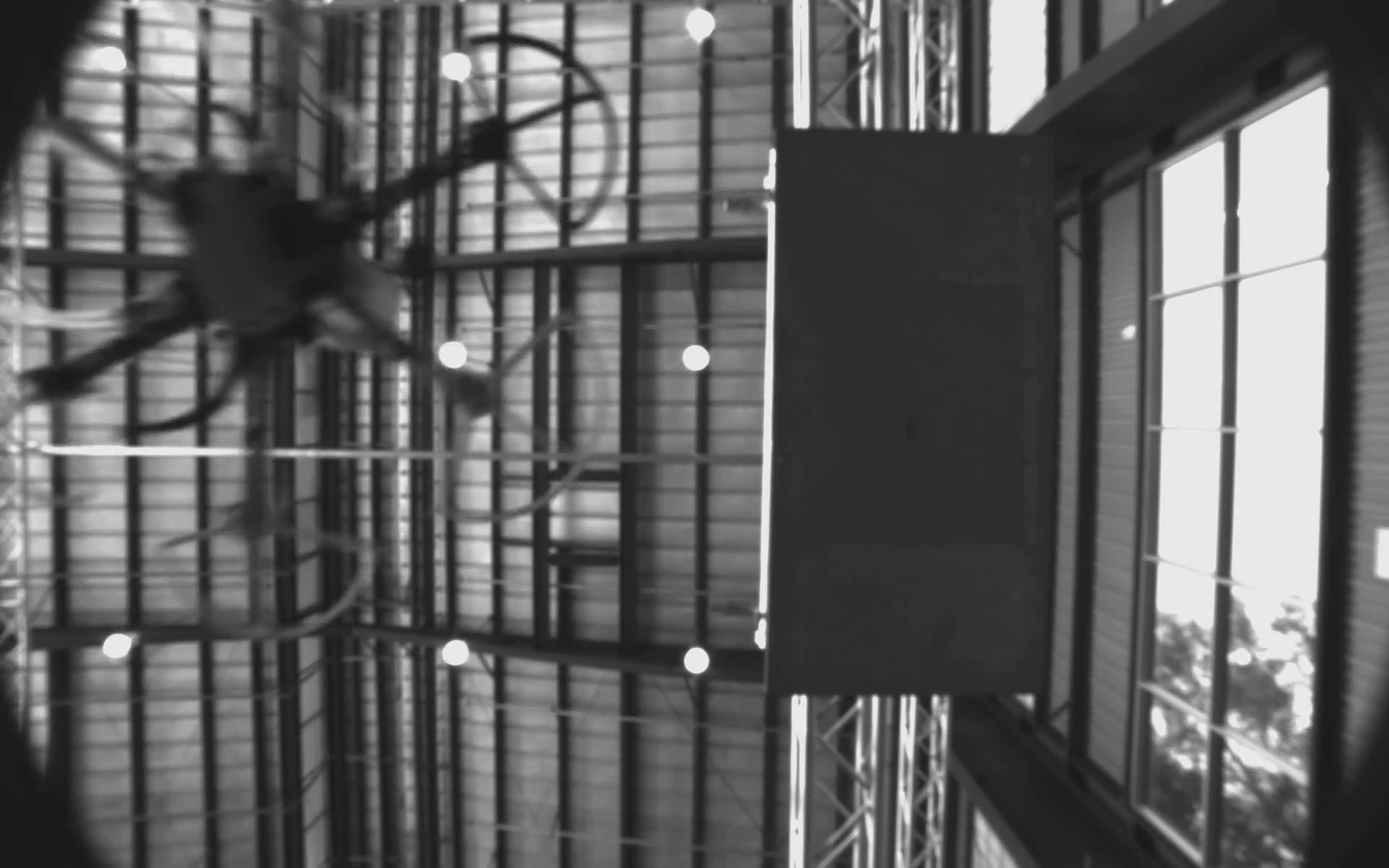drone: (11, 4, 650, 634)
